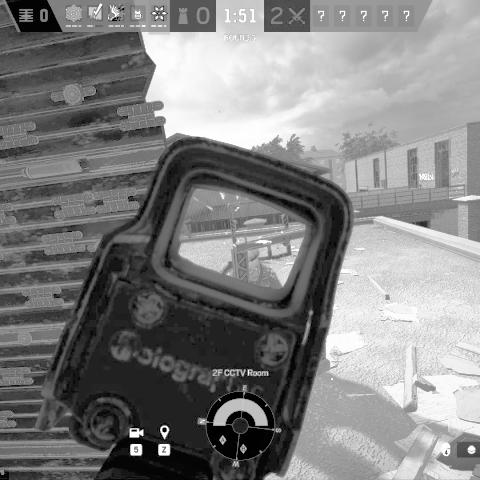Character: (221, 242, 284, 293)
Head: (245, 244, 262, 282)
